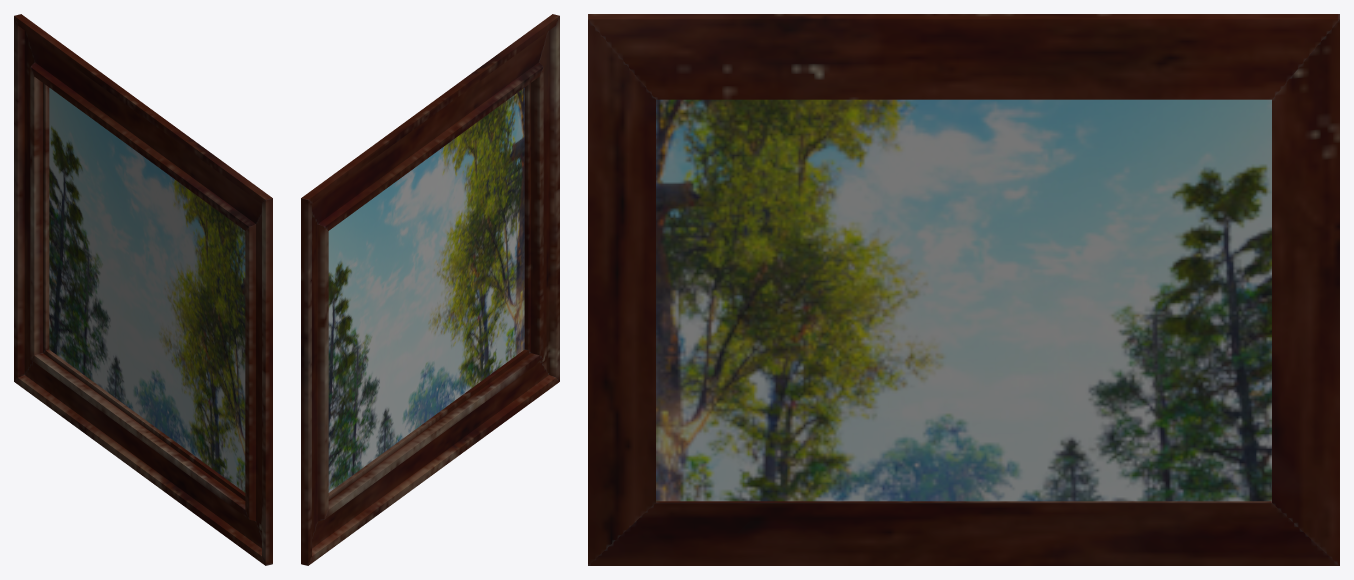
Rendered from Prop_PictureTable_4.fbx.
3 renders of one model, left to right at view 1: azimuth 30°, elevation 25°; view 2: azimuth 150°, elevation 25°; view 3: azimuth 270°, elevation 25°, orthographic. The views are drawn at different scales.
Visible parts, largest first — view 1: Prop_PictureTable_4; view 2: Prop_PictureTable_4; view 3: Prop_PictureTable_4.
Boxes of the visible parts, <box> form: Prop_PictureTable_4: <box>14,14,272,565</box>; Prop_PictureTable_4: <box>301,14,559,565</box>; Prop_PictureTable_4: <box>588,14,1339,565</box>.
Size of the model in its own units: 1.45 by 35.15 by 43.81.
